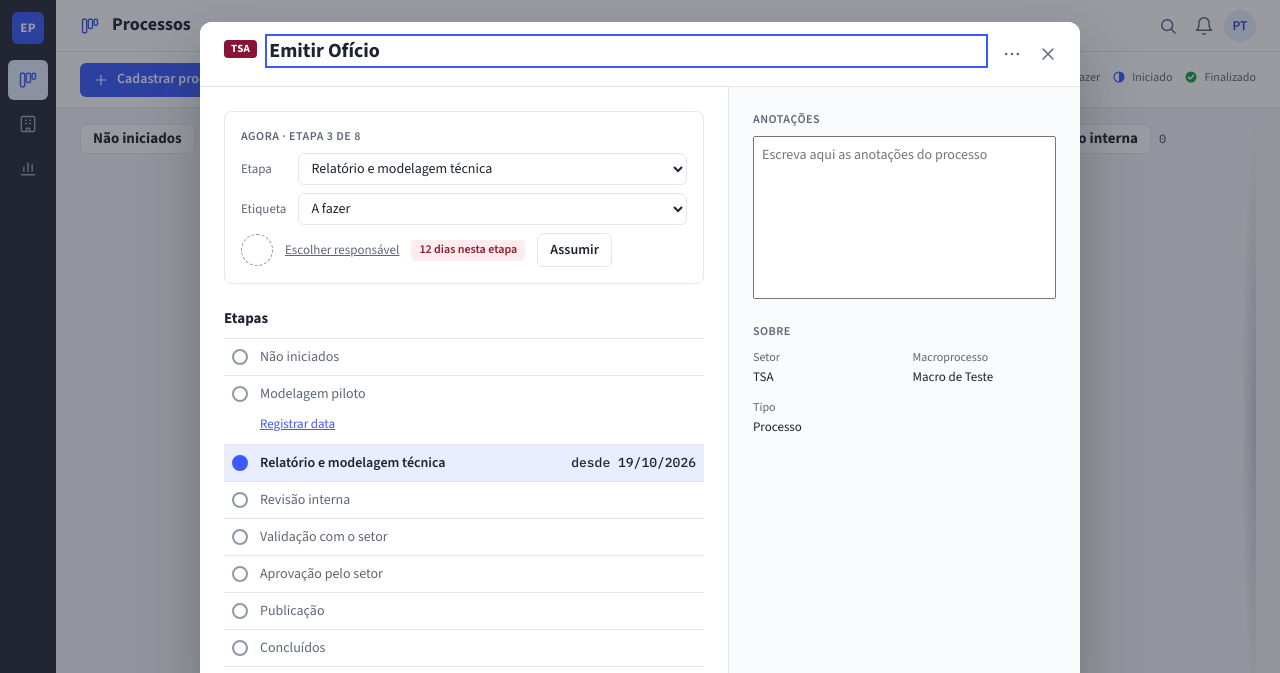
suspender grava o motivo, mostra a pílula, o aviso e o Quadro marca o cartão
Click the button named "Ações do processo" at (1012, 54), box [996,38,1028,70]
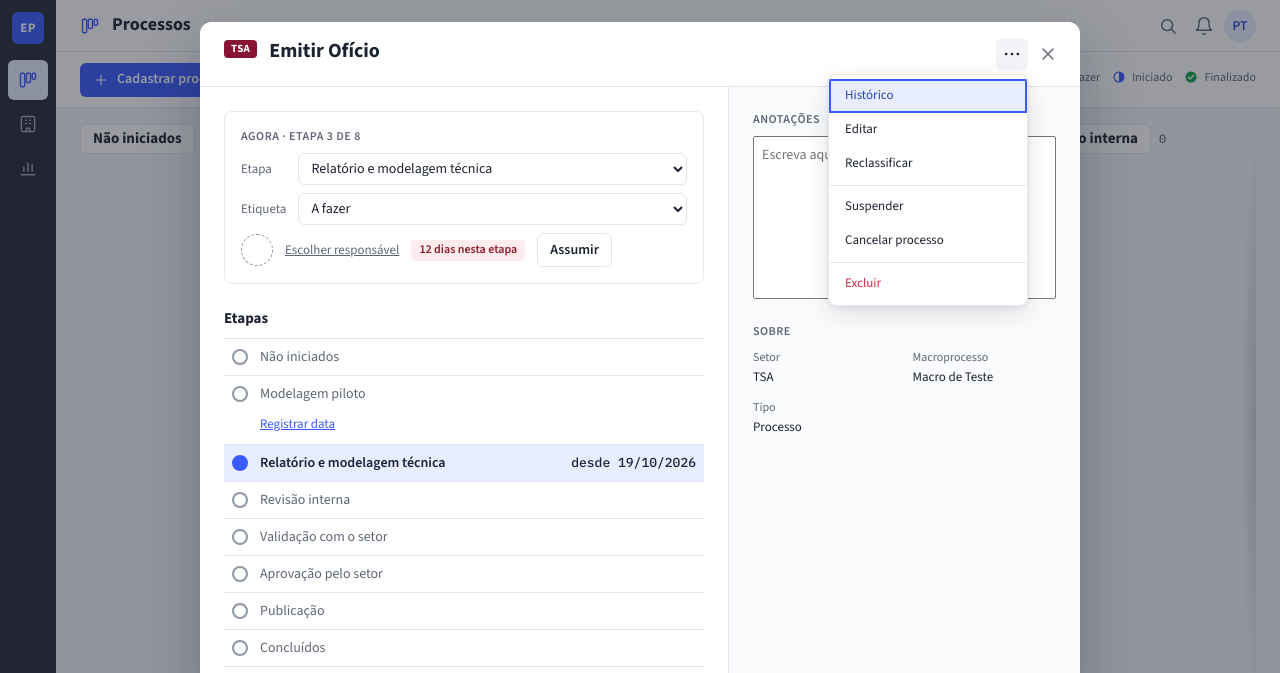
Click the menu item "Suspender" at (928, 207), box [829,190,1027,224]
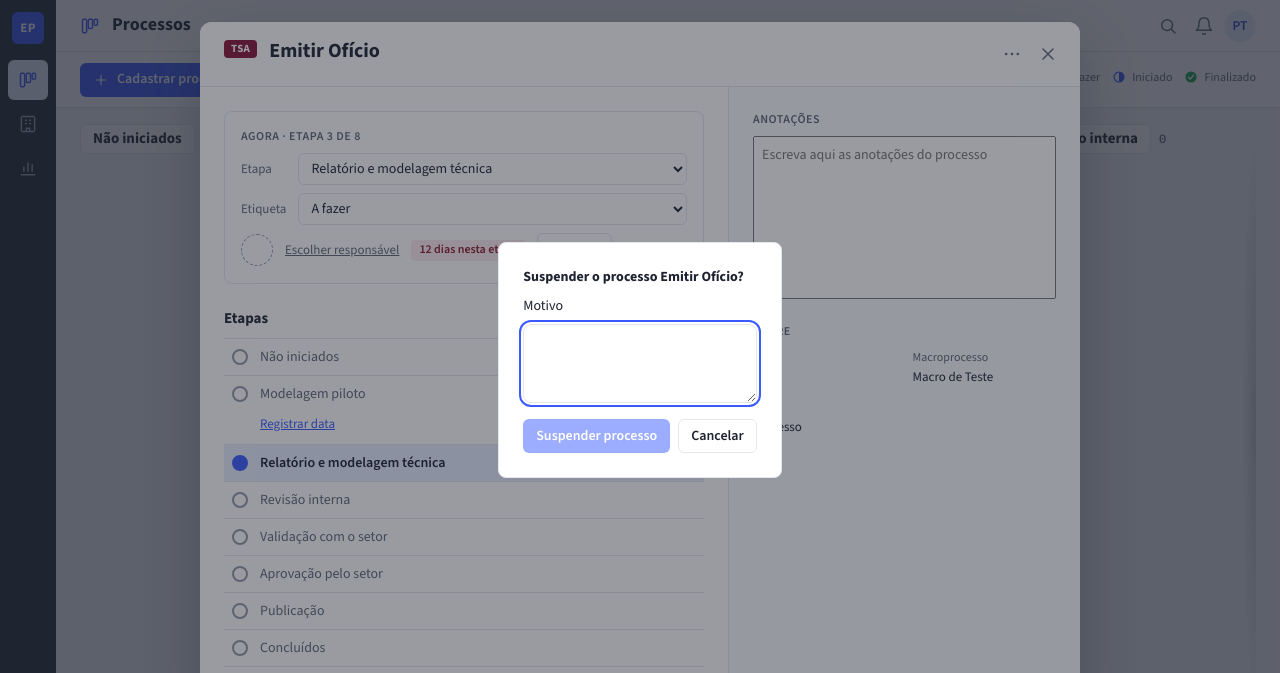
Type "Aguardando decisão" into the text box labelled "Motivo" at (640, 363), box [523,324,757,403]
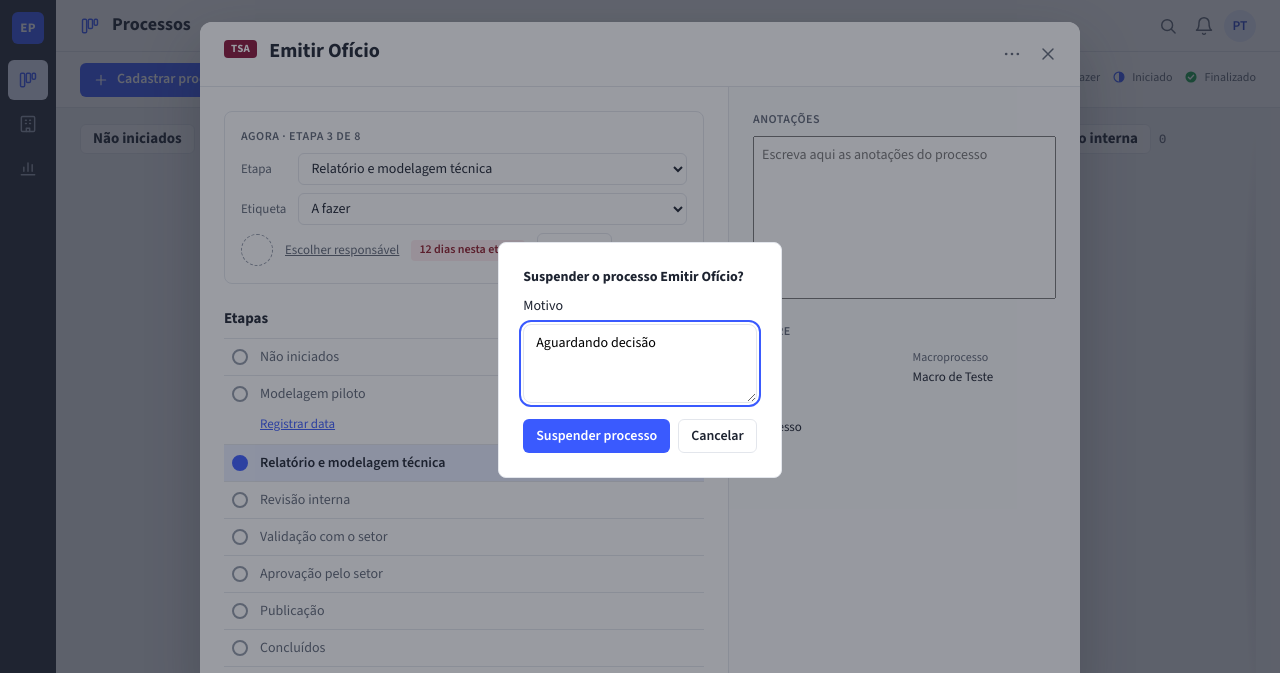
Click the button "Suspender processo" at (597, 436), box [523,419,670,453]
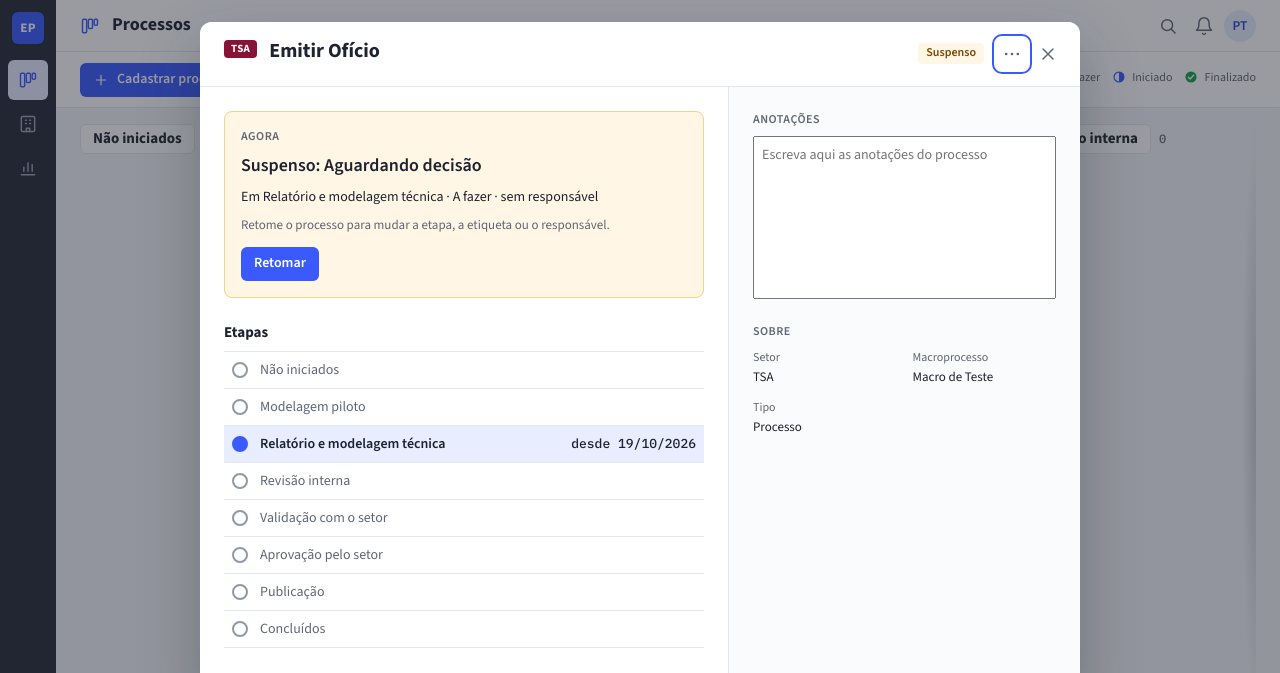
expect the text "Suspenso: Aguardando decisão" is shown: met, box [241,153,482,178]
expect the text "Suspenso" is shown: met, box [918,43,984,64]
